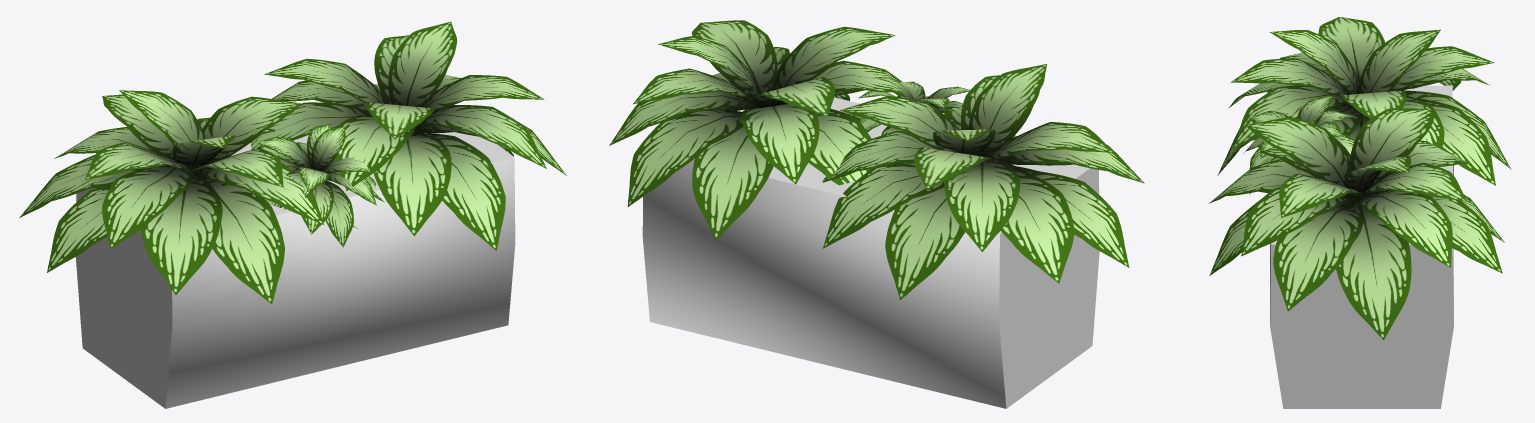
File: Plant_square.fbx
3 views of the same model, side by side, from view 1: azimuth 30°, elevation 25°; view 2: azimuth 150°, elevation 25°; view 3: azimuth 270°, elevation 25° (orthographic). The views are drawn at different scales.
Parts seen in each view (by area): view 1: Pot_2_low; view 2: Pot_2_low; view 3: Pot_2_low.
Part boxes in pixels (left/top/right/bottom): Pot_2_low: left=19, top=21, right=566, bottom=408; Pot_2_low: left=609, top=20, right=1144, bottom=408; Pot_2_low: left=1209, top=17, right=1511, bottom=408.
Size of the model in its own units: 6.05 by 2.95 by 3.65.
2 materials, 1 textured.
